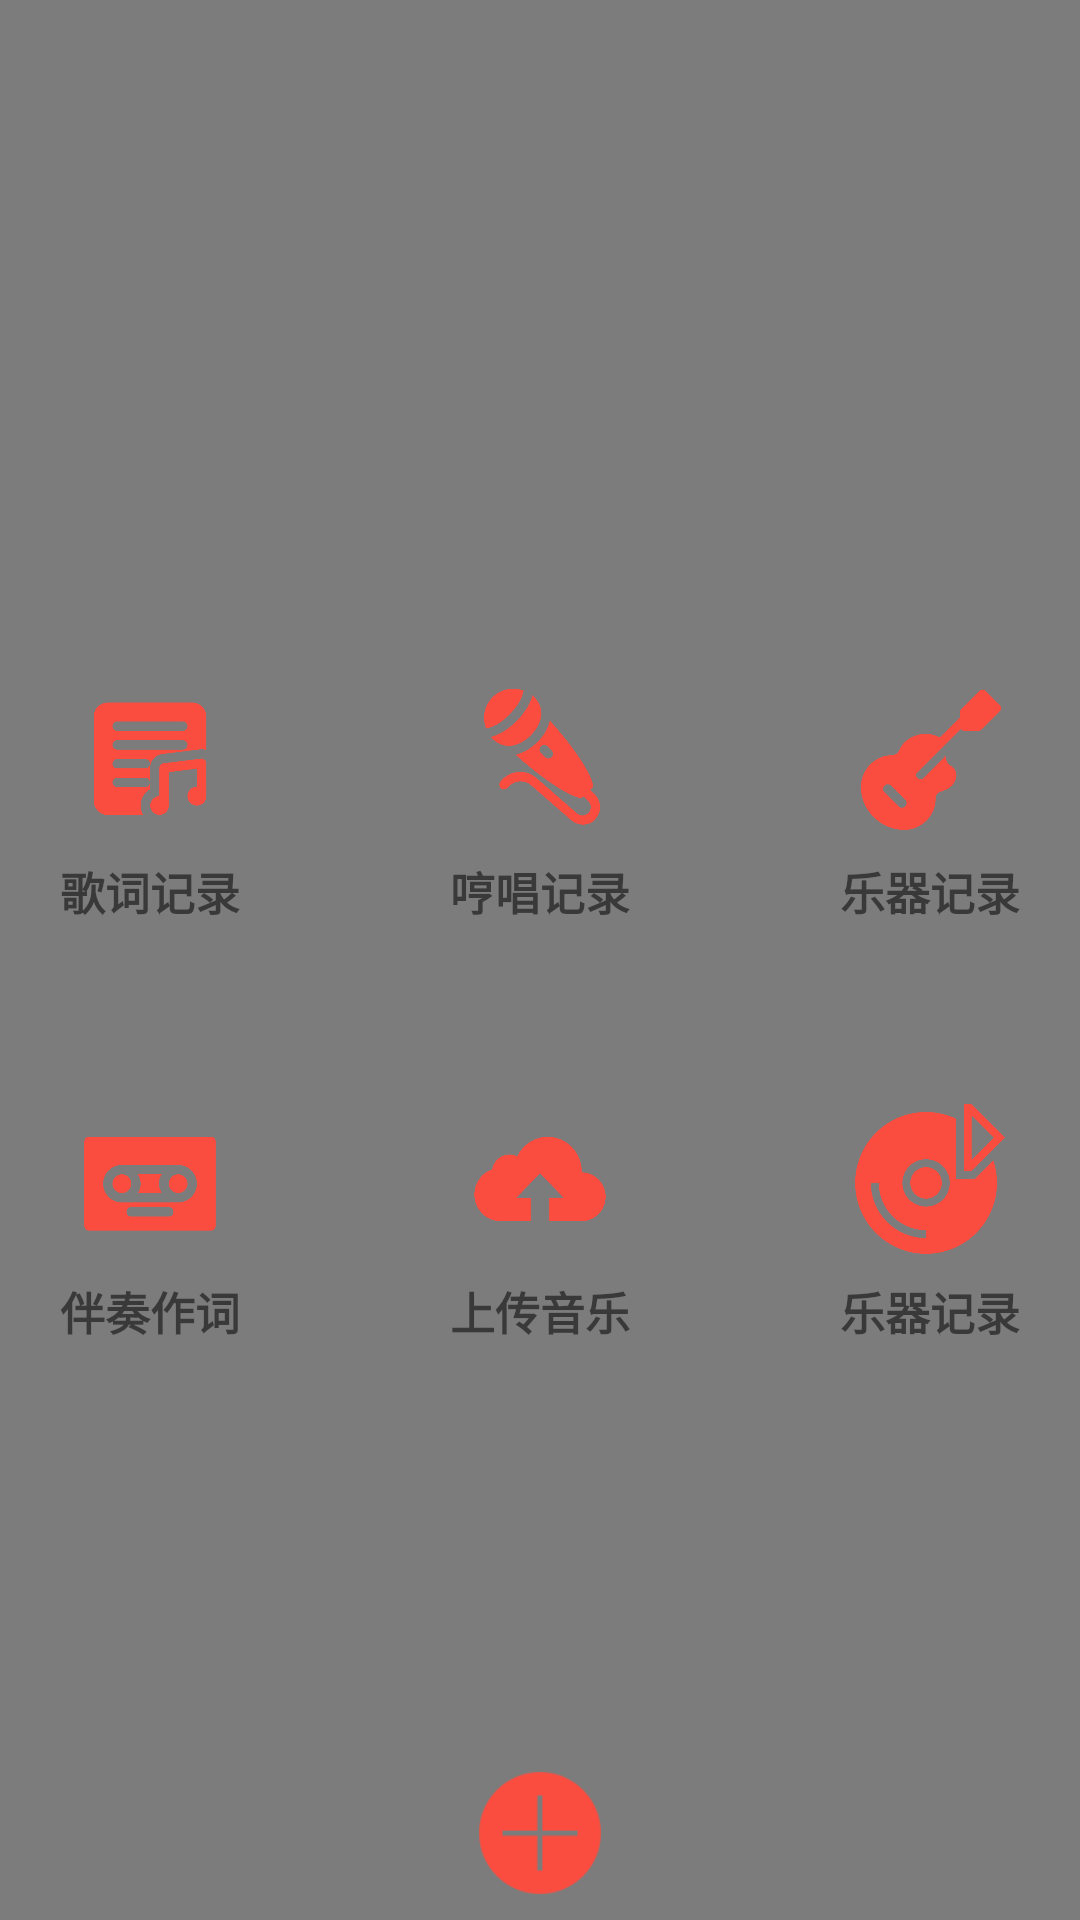

Icon bounding boxes for this 1080×1920 phone screenshot, format (x1, y1, x2, y2):
bar create: (479, 1772, 601, 1894)
create hum: (484, 689, 600, 825)
create lyrics: (94, 702, 206, 815)
create upload: (474, 1137, 606, 1221)
